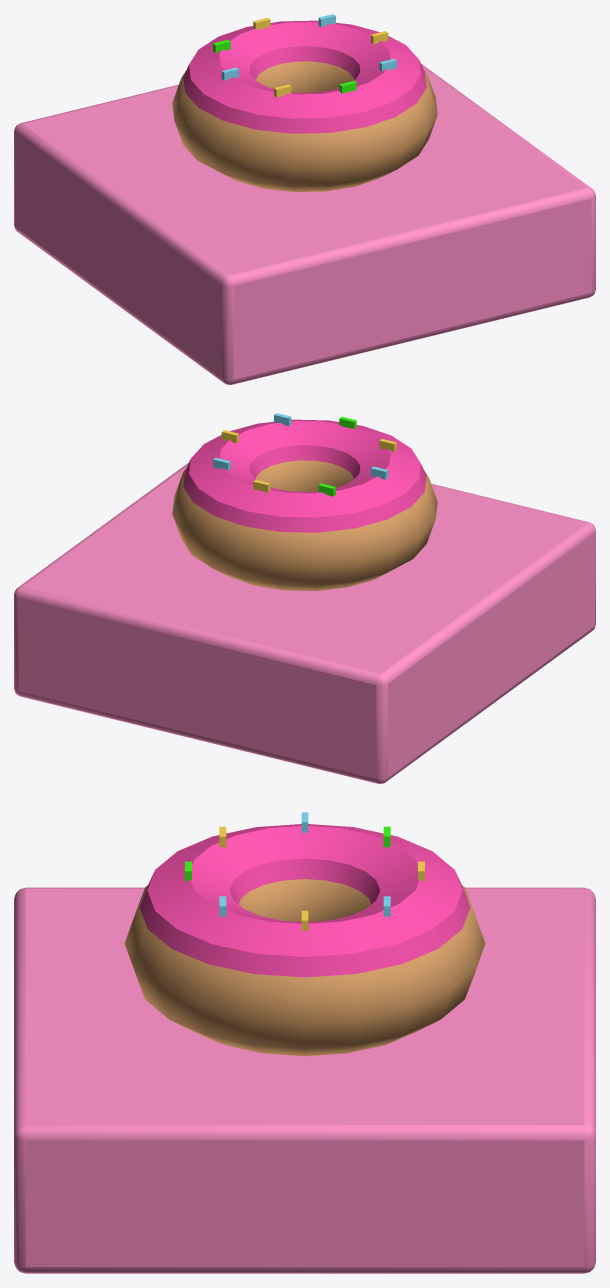
The model's file is donuts.glb.
3 renders of one model, top to bottom at view 1: azimuth 30°, elevation 25°; view 2: azimuth 150°, elevation 25°; view 3: azimuth 270°, elevation 25°, orthographic. The views are drawn at different scales.
Parts seen in each view (by area): view 1: Donuts; view 2: Donuts; view 3: Donuts.
Part boxes in pixels (left/top/right/bottom): Donuts: left=14, top=14, right=595, bottom=384; Donuts: left=14, top=413, right=595, bottom=783; Donuts: left=14, top=812, right=595, bottom=1273.
Bounding box in the file's own units: 0.5 × 0.273 × 0.5.
